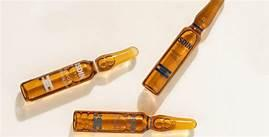Syringe: (142, 3, 231, 98), (10, 43, 139, 98), (68, 106, 200, 137)
